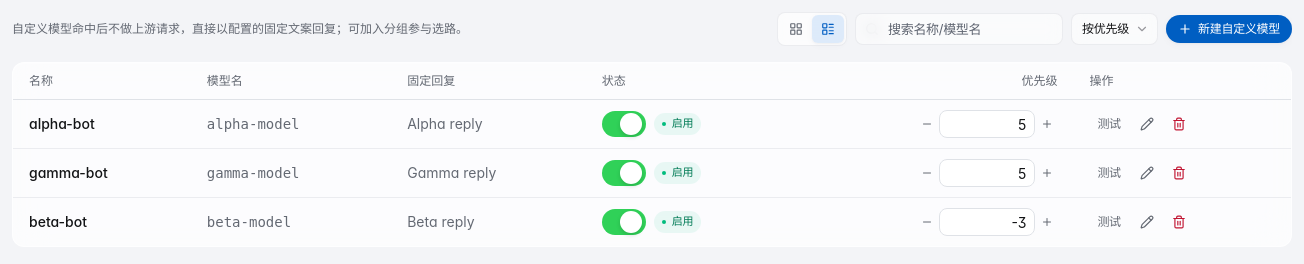
<CustomModelsPage /> 搜索与排序 › 切换为按名称排序
Expected: the text "alpha-bot" is shown, [13,100,191,148]
Select "按名称" in the dropdown named "排序" at (1115, 29), box [1071,13,1158,45]
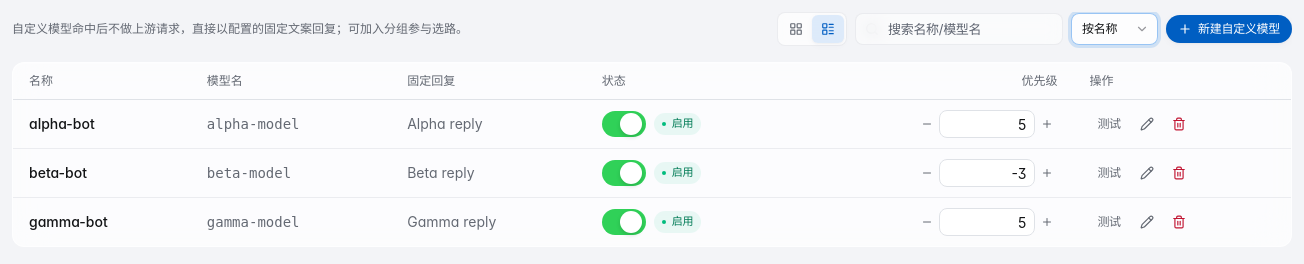
Expected: the elements "-bot" read "alpha-bot", "beta-bot", "gamma-bot", in this order, [13,100,191,148]; [13,148,191,198]; [13,198,191,246]
